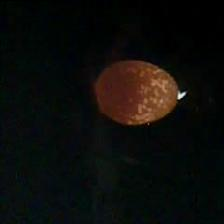infertile: (94, 58, 181, 125)
